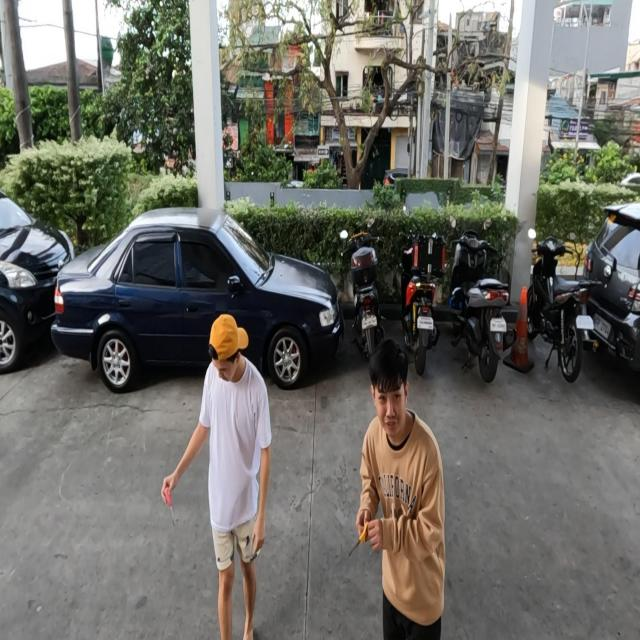scissor: (347, 521, 373, 558), (163, 487, 176, 529)
